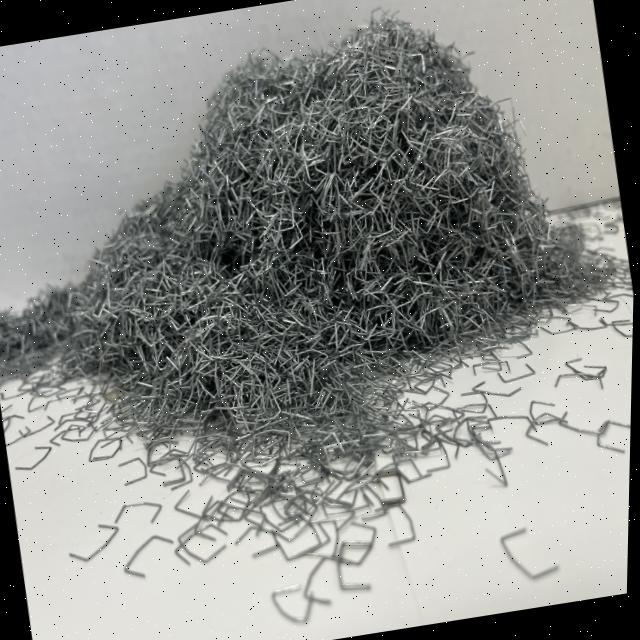staples: (0, 0, 631, 481)
